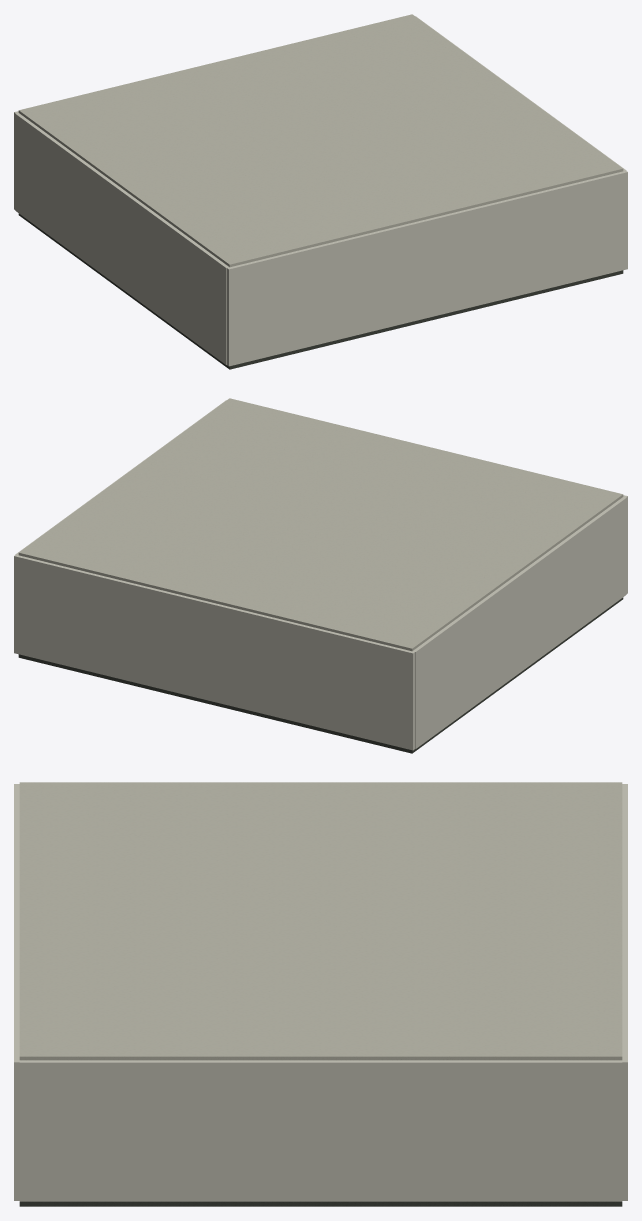
File: rifkin_office.glb
The picture shows the model from 3 angles, top to bottom: view 1: azimuth 30°, elevation 25°; view 2: azimuth 150°, elevation 25°; view 3: azimuth 270°, elevation 25°; orthographic projection. The views are drawn at different scales.
Parts seen in each view (by area): view 1: Ceiling backing, Wall south, Wall west, Floor; view 2: Ceiling backing, Wall north, Wall west, Floor; view 3: Ceiling backing, Wall east, Floor, Wall north, Wall south.
Boxes of the visible parts, left/top/right/bottom form: Ceiling backing: left=18, top=14, right=623, bottom=267; Wall south: left=227, top=170, right=627, bottom=366; Wall west: left=15, top=113, right=228, bottom=364; Floor: left=18, top=213, right=623, bottom=369; Ceiling backing: left=18, top=398, right=623, bottom=651; Wall north: left=14, top=554, right=414, bottom=750; Wall west: left=413, top=497, right=626, bottom=748; Floor: left=18, top=597, right=623, bottom=753; Ceiling backing: left=19, top=782, right=622, bottom=1060; Wall east: left=19, top=1060, right=622, bottom=1201; Floor: left=19, top=1201, right=622, bottom=1206; Wall north: left=621, top=784, right=627, bottom=1200; Wall south: left=14, top=784, right=19, bottom=1200.
Size of the model in its own units: 14.24 by 3.57 by 13.24.
23 materials, 8 textured.
